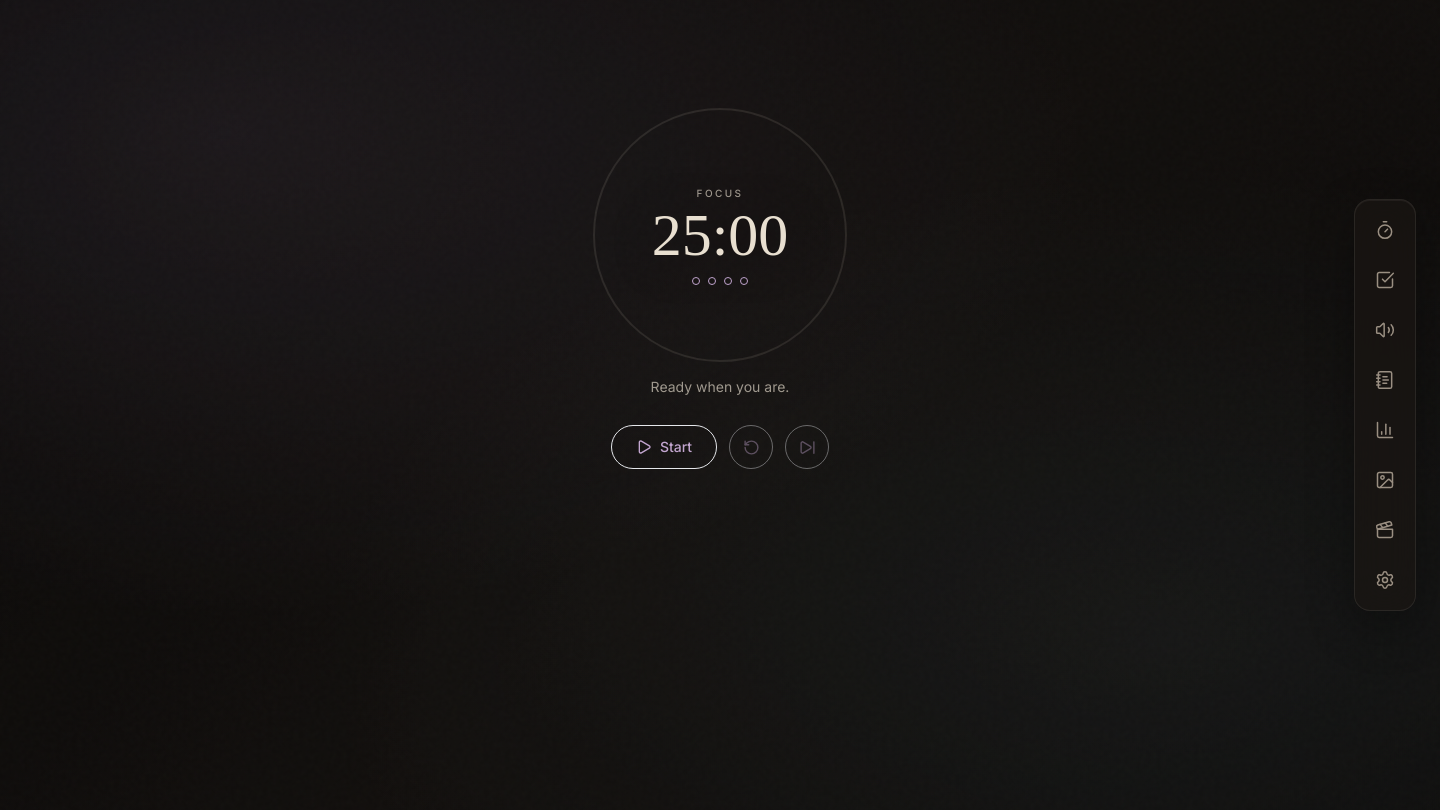
Test: study room shell › opens the matching panel and closes it with Escape
The image size is (1440, 810).
Click the button named "Tasks".
click(1385, 280)  # box [1363,258,1407,302]
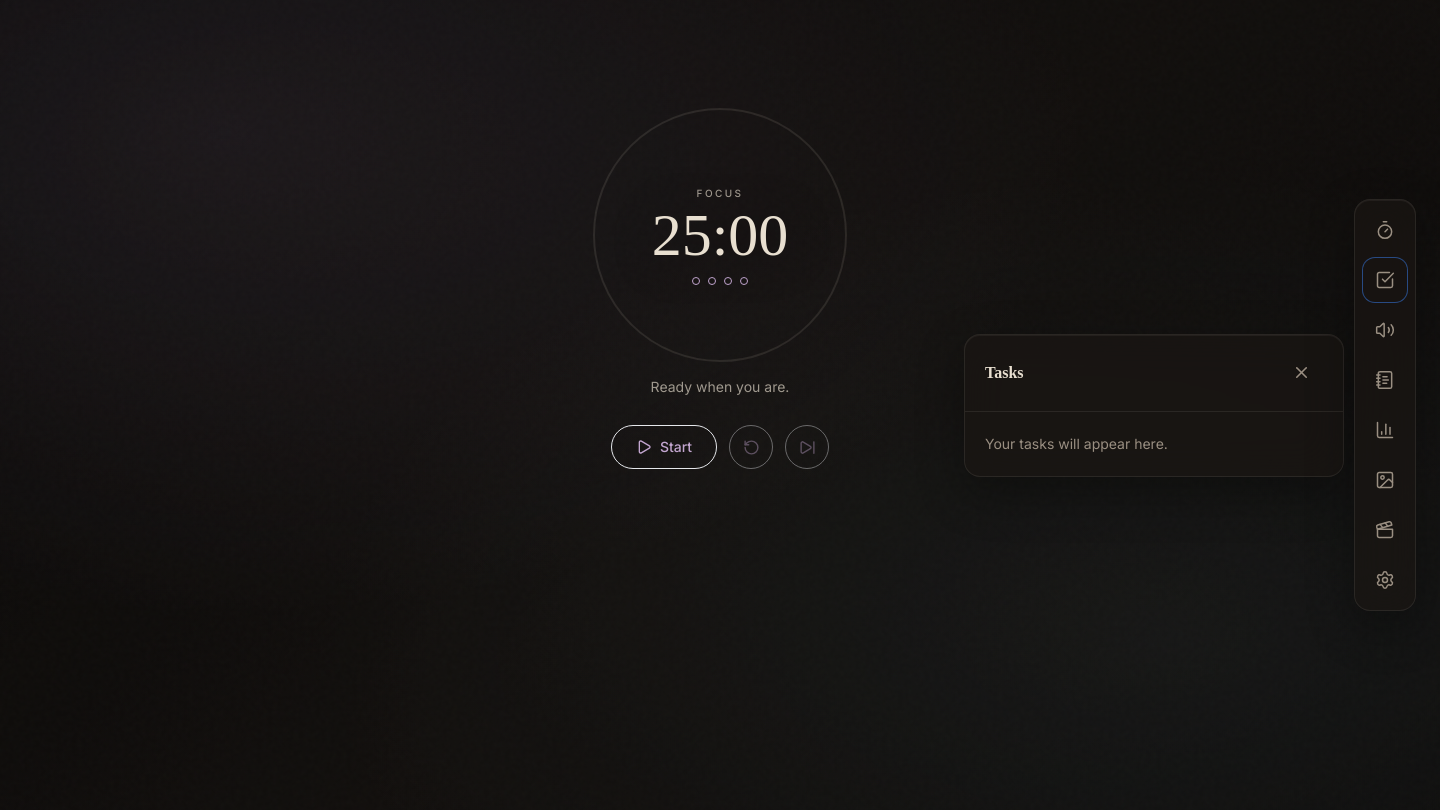
Now the text "Your tasks will appear here." is shown, box [985,434,1168,452]
Press Escape
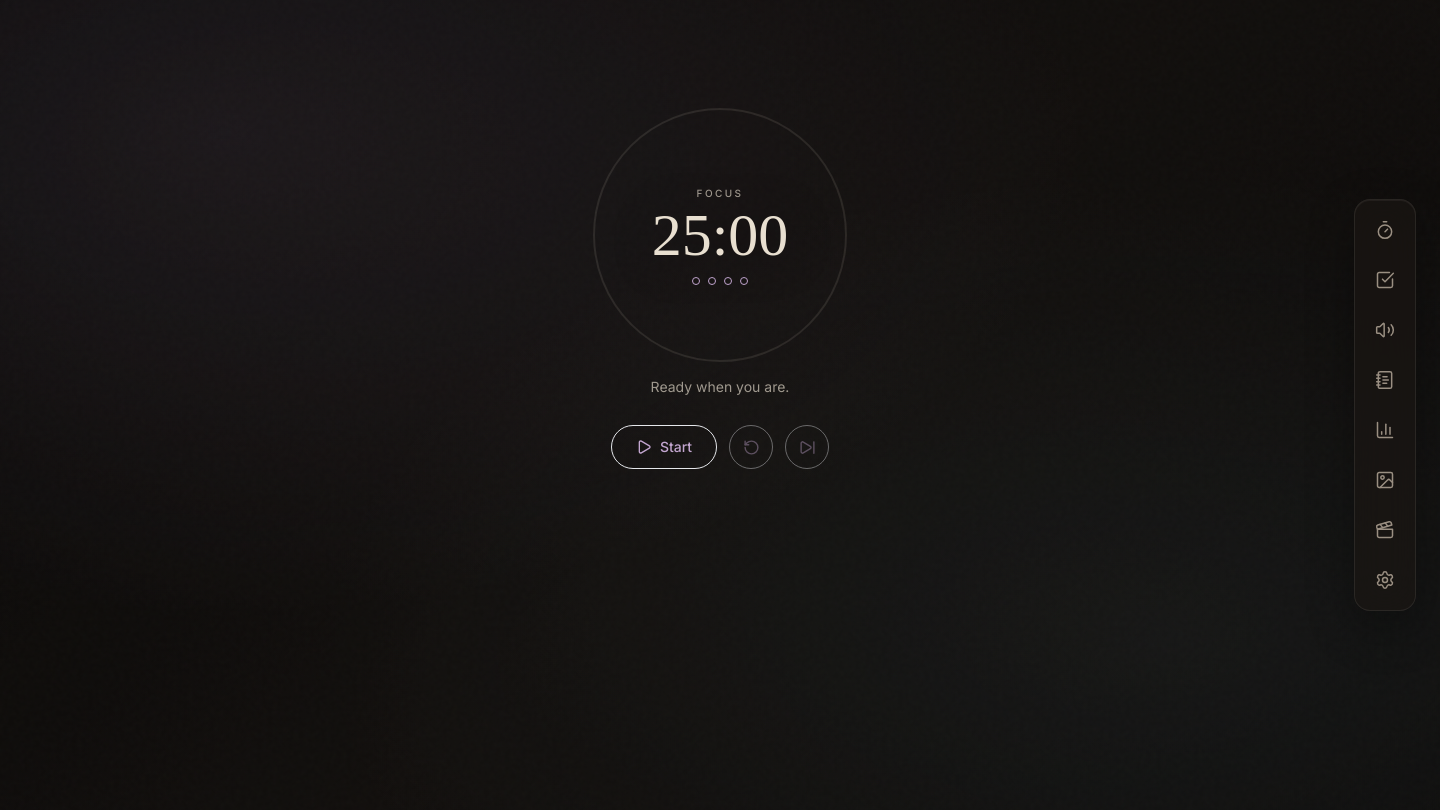
Now the text "Your tasks will appear here." is gone
